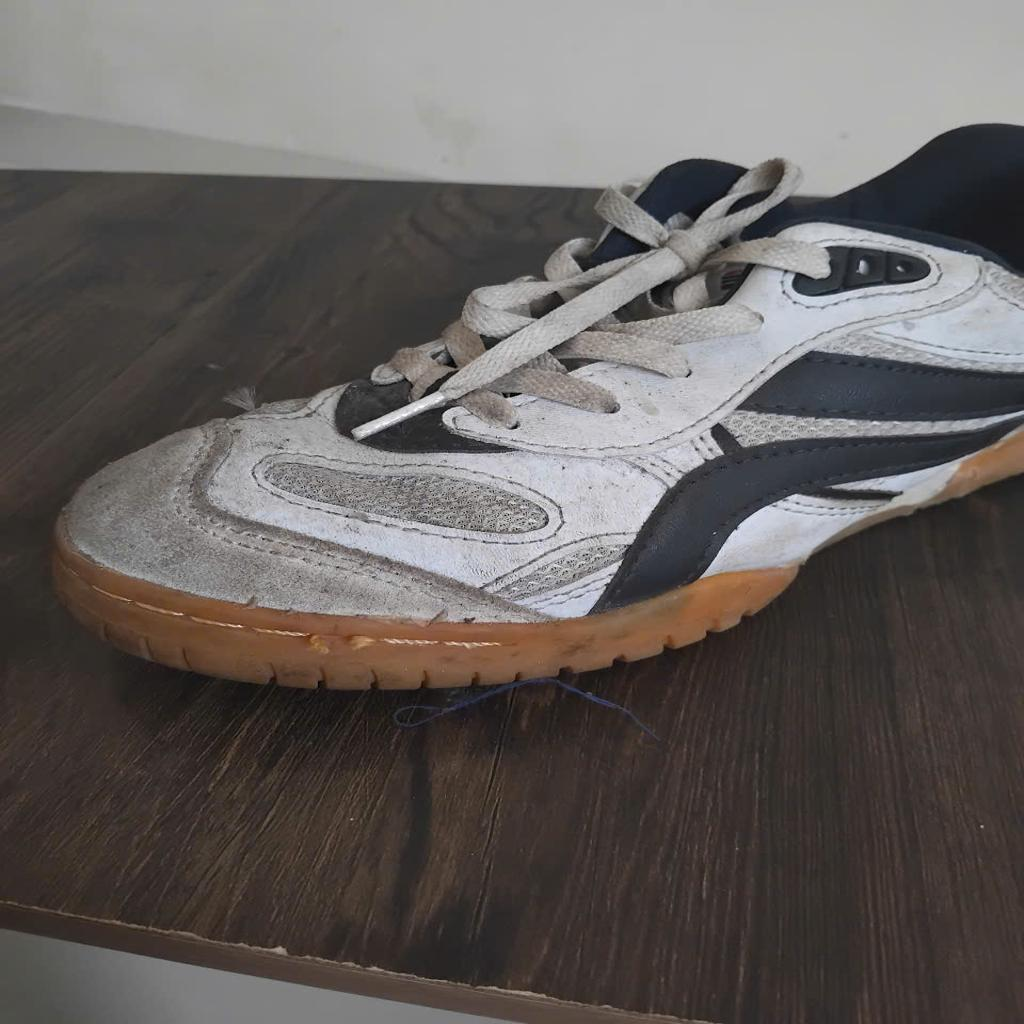broken: (304, 623, 376, 662)
